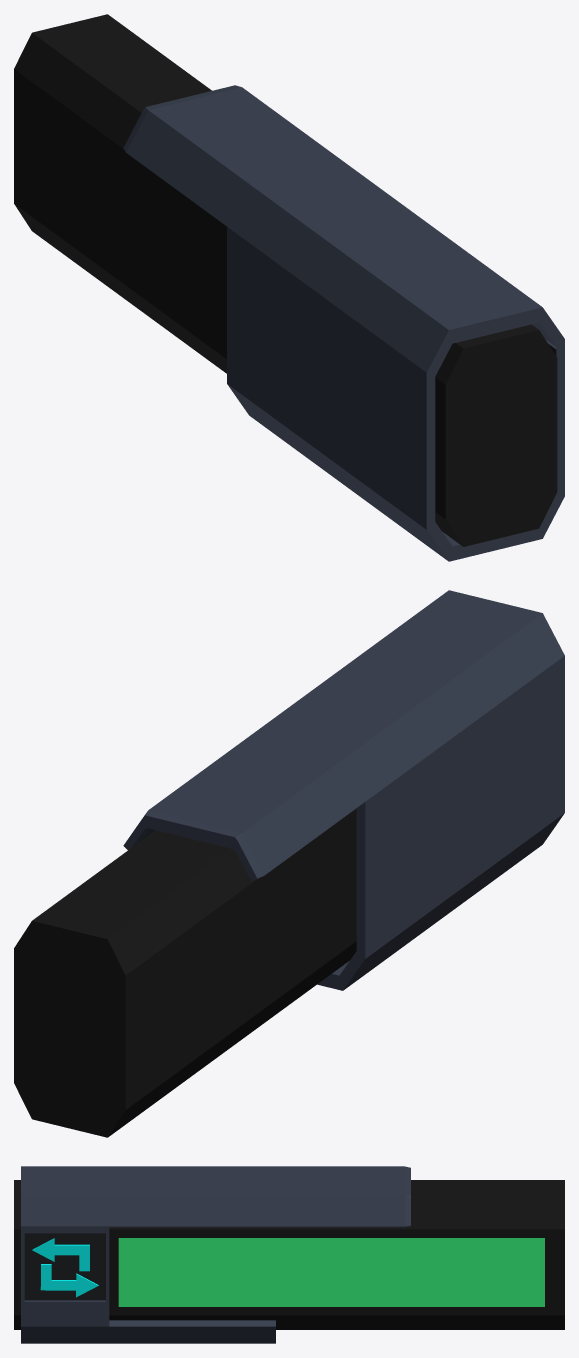
The model's file is Retry Button.fbx.
The picture shows the model from 3 angles, top to bottom: view 1: azimuth 30°, elevation 25°; view 2: azimuth 150°, elevation 25°; view 3: azimuth 270°, elevation 25°; orthographic projection. The views are drawn at different scales.
Parts seen in each view (by area): view 1: Retry Button; view 2: Retry Button; view 3: Retry Button.
Boxes of the visible parts, left/top/right/bottom form: Retry Button: left=14, top=14, right=564, bottom=561; Retry Button: left=14, top=590, right=564, bottom=1137; Retry Button: left=14, top=1166, right=564, bottom=1343.
Bounding box in the file's own units: 30.27 × 48.47 × 164.
